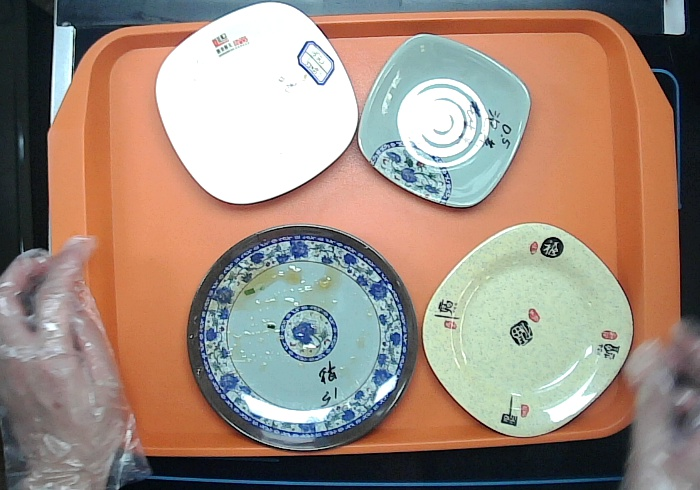NLDX-Bai_Se_Xiao_Fang_Die: (153, 2, 361, 208)
NLDX-Fu_Zi_Fang_Die: (420, 219, 636, 439)
NLDX-Qing_Hua_Xiao_Fang_Die: (353, 31, 534, 211)
NLDX-Qing_Hua_Yuan_Die: (184, 220, 421, 453)
